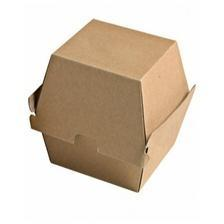box: (27, 19, 195, 193)
